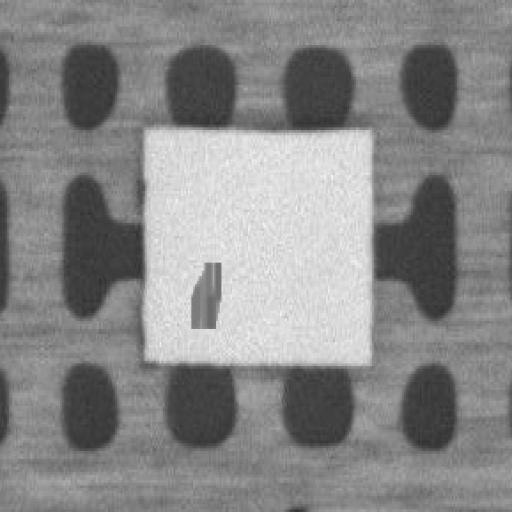DIE_INK: (186, 254, 218, 324)
